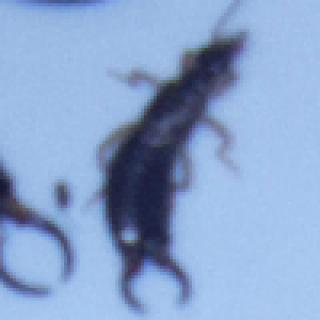earwig: (83, 0, 256, 315)
